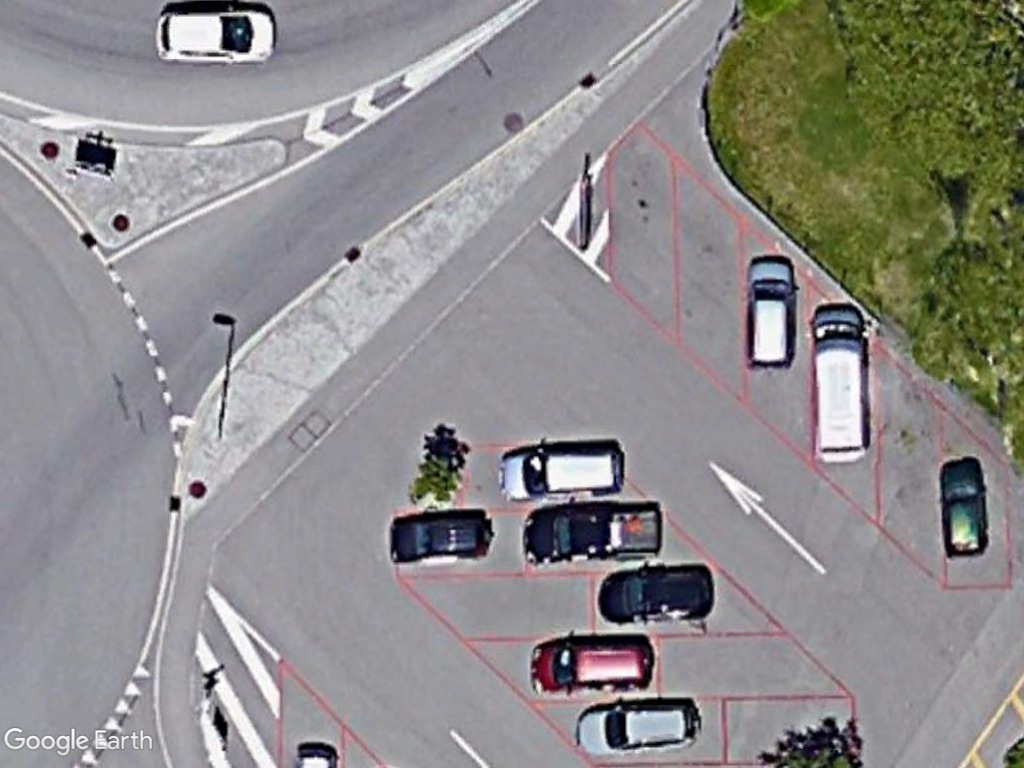car: (150, 5, 282, 71), (498, 442, 626, 505), (574, 696, 701, 758), (594, 564, 717, 627), (527, 635, 655, 695), (746, 251, 799, 377), (386, 510, 491, 567), (937, 456, 991, 559)
others: (521, 506, 666, 566)
van: (812, 301, 876, 466)
